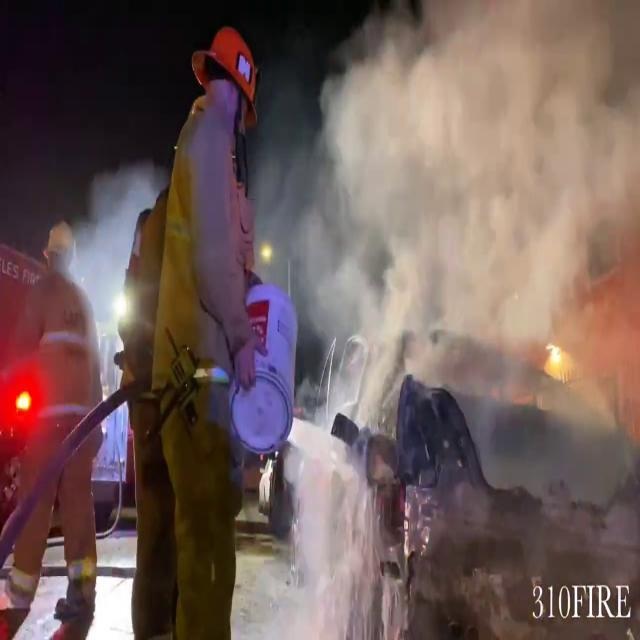Smoke: (273, 0, 640, 446)
